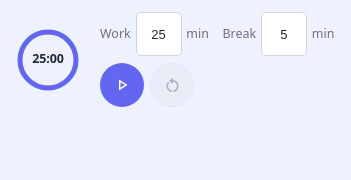
Scenario: PomodoroTimer › work phase completion › transitions to break idle 1500ms after work completes
Step 1. Click the button named "Start work timer" → (122, 85), box 100,63 -> 144,107
Wait 1501700 ms
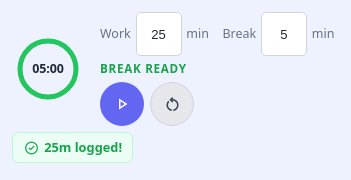
Now the text "Break ready" is shown, box 100,61 -> 187,76
Now the button named "Start break timer" is shown, box 100,82 -> 144,126
